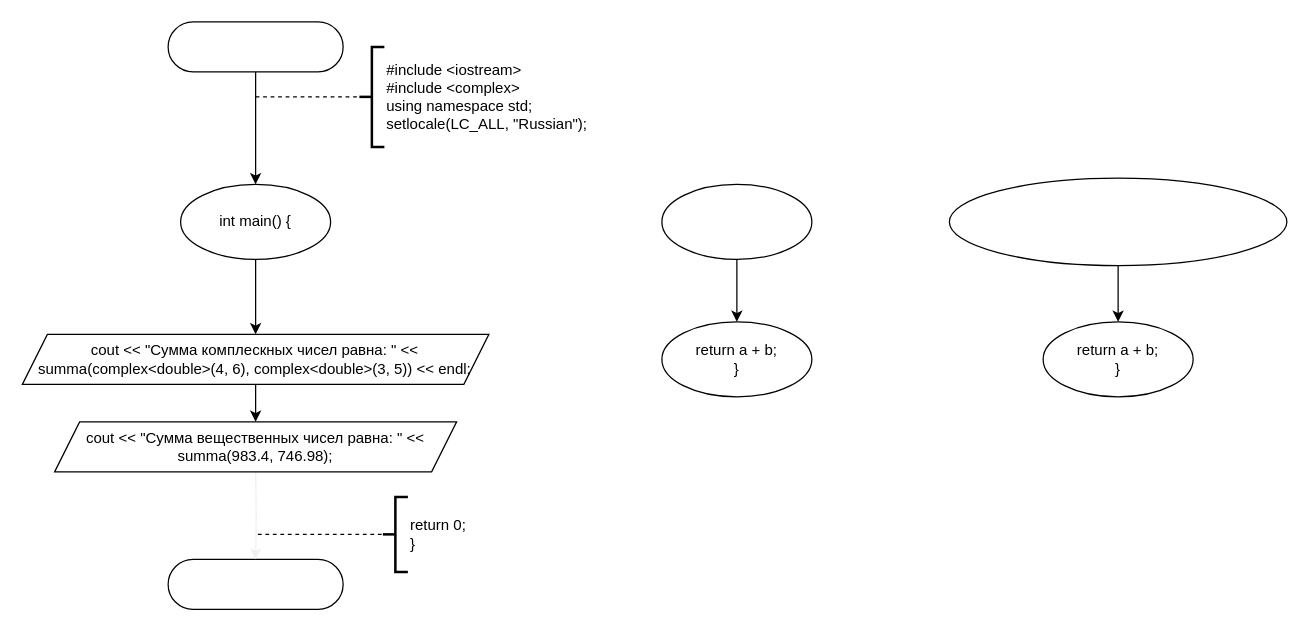
This 1309x631 diagram has some shape labels left out. Each missing label, with the box of its shape:
complex<double>summa(complex<double>a, complex<double>b): (948, 177, 1287, 266)
float summa(float a, float b) {: (661, 183, 812, 259)
Запуск: (167, 21, 343, 72)
Конец: (167, 558, 343, 609)
